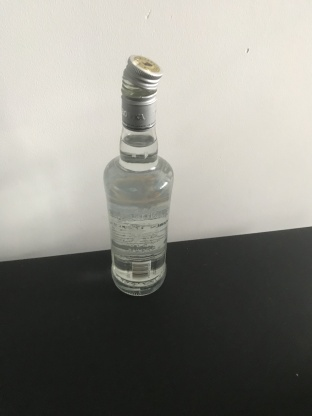nakretka: (119, 52, 164, 132)
